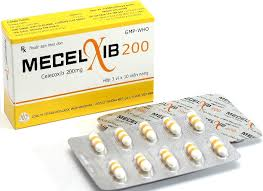Celecoxip: (39, 70, 67, 81)
